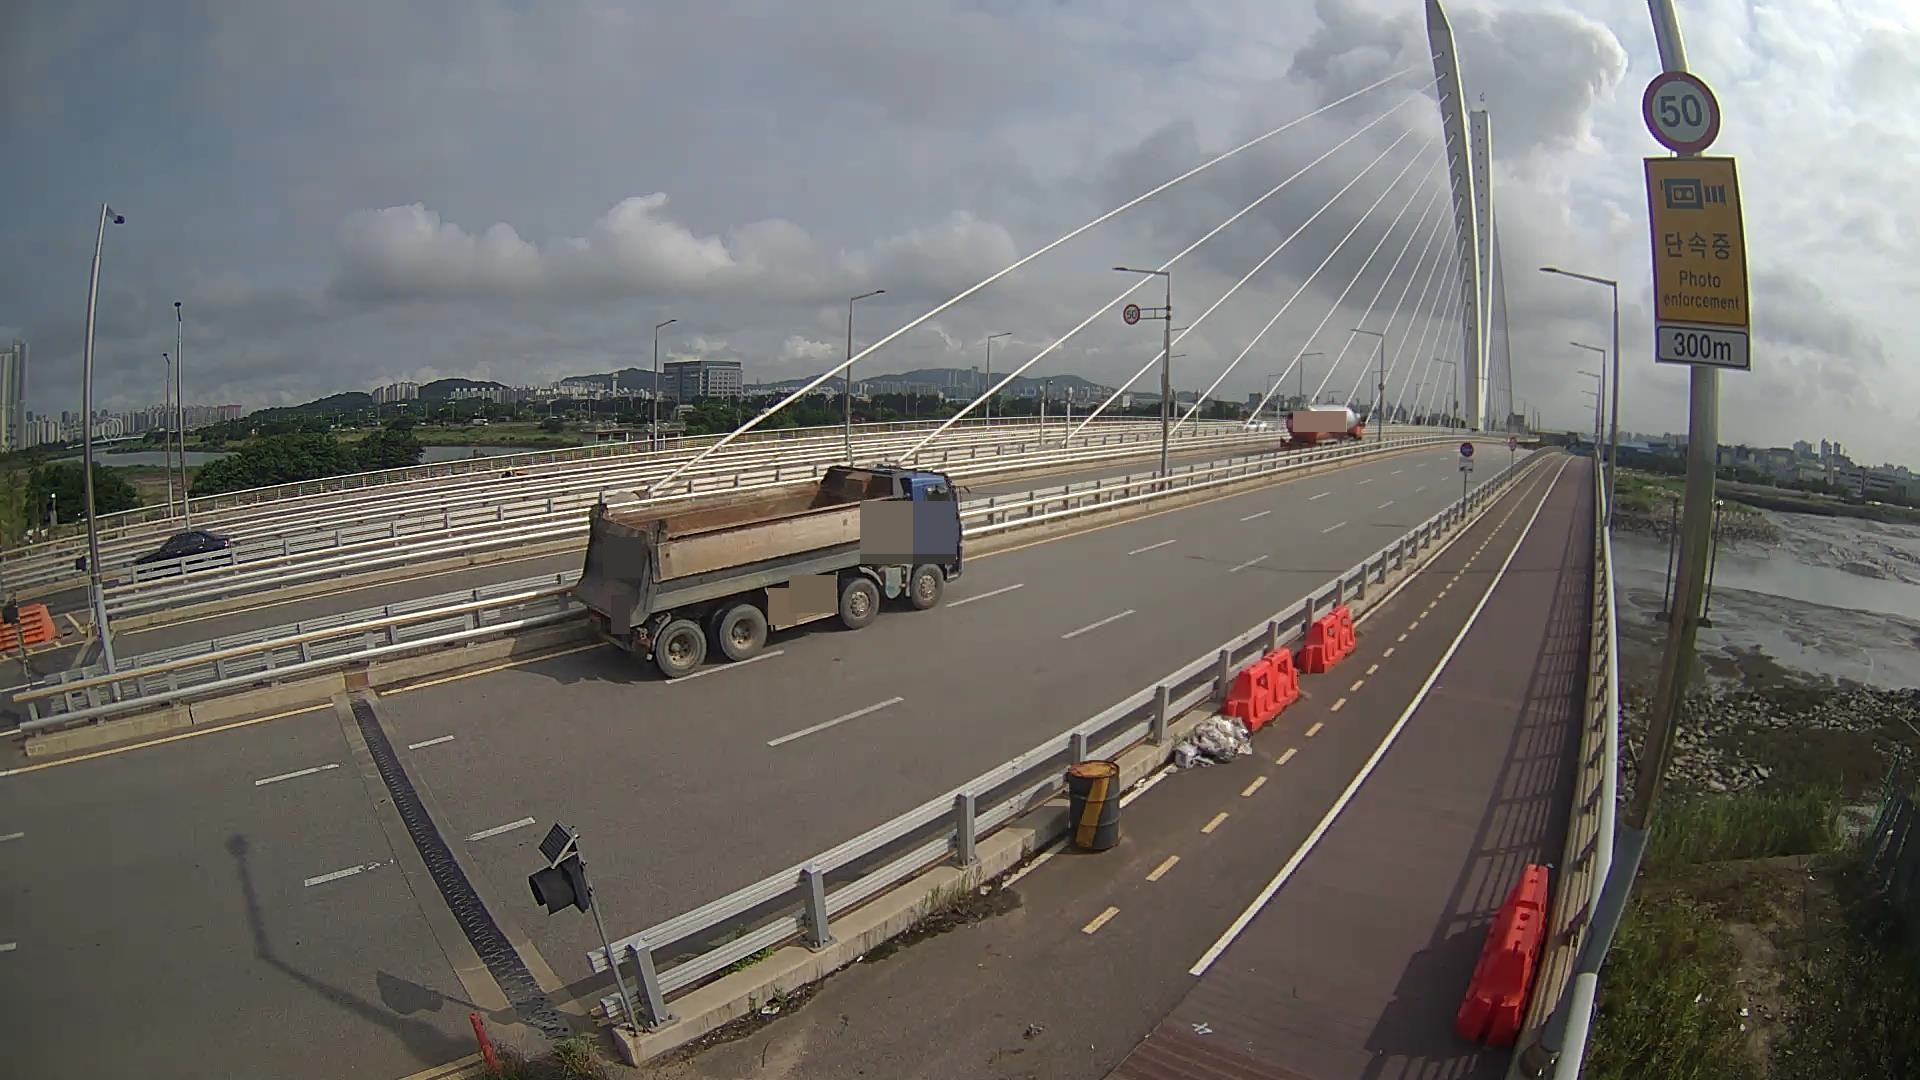정상차량: (572, 464, 972, 678)
